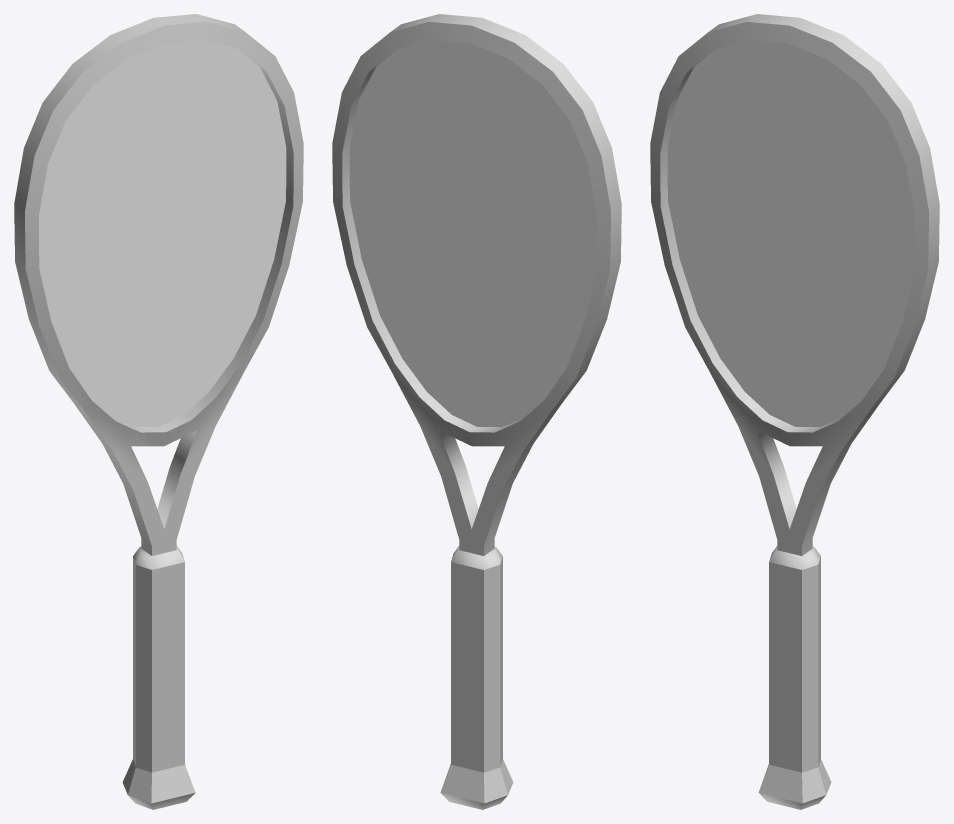
File: tns_r_shadow.glb
The picture shows the model from 3 angles, left to right: view 1: azimuth 30°, elevation 25°; view 2: azimuth 150°, elevation 25°; view 3: azimuth 330°, elevation 25°; orthographic projection.
Visible parts, largest first — view 1: polygon0, polygon2, polygon1; view 2: polygon0, polygon2, polygon1; view 3: polygon0, polygon2, polygon1.
Boxes of the visible parts, x1,y1,x2,y2 form: polygon0: [39, 40, 286, 427]; polygon2: [14, 14, 303, 555]; polygon1: [122, 545, 195, 809]; polygon0: [349, 40, 596, 427]; polygon2: [332, 14, 621, 555]; polygon1: [440, 545, 513, 809]; polygon0: [667, 40, 914, 426]; polygon2: [650, 14, 939, 555]; polygon1: [758, 546, 831, 809].
Size of the model in its own units: 5.04 by 13.4 by 0.9053.
Materials: 2 (1 with a texture image).
